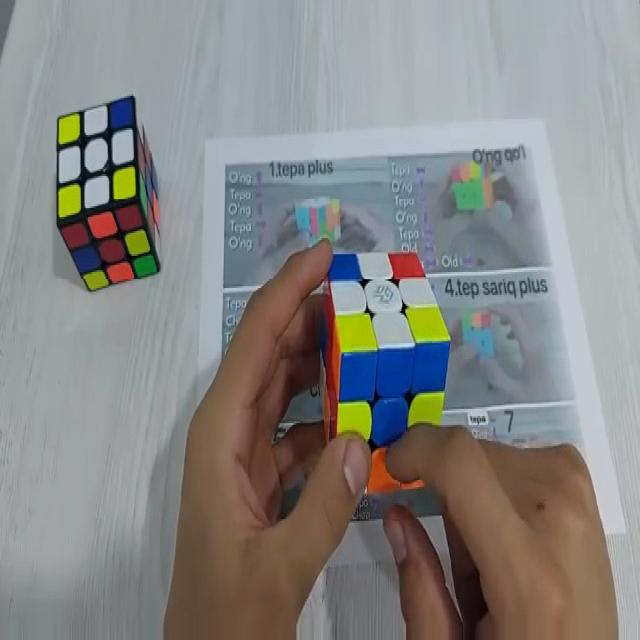Rub: (317, 246, 453, 496), (57, 92, 162, 293)
